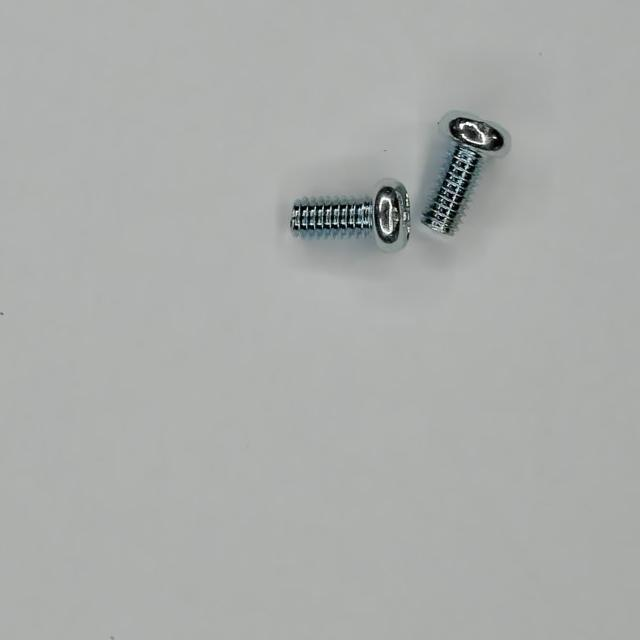Screw: (423, 116, 506, 234), (291, 181, 411, 250)
